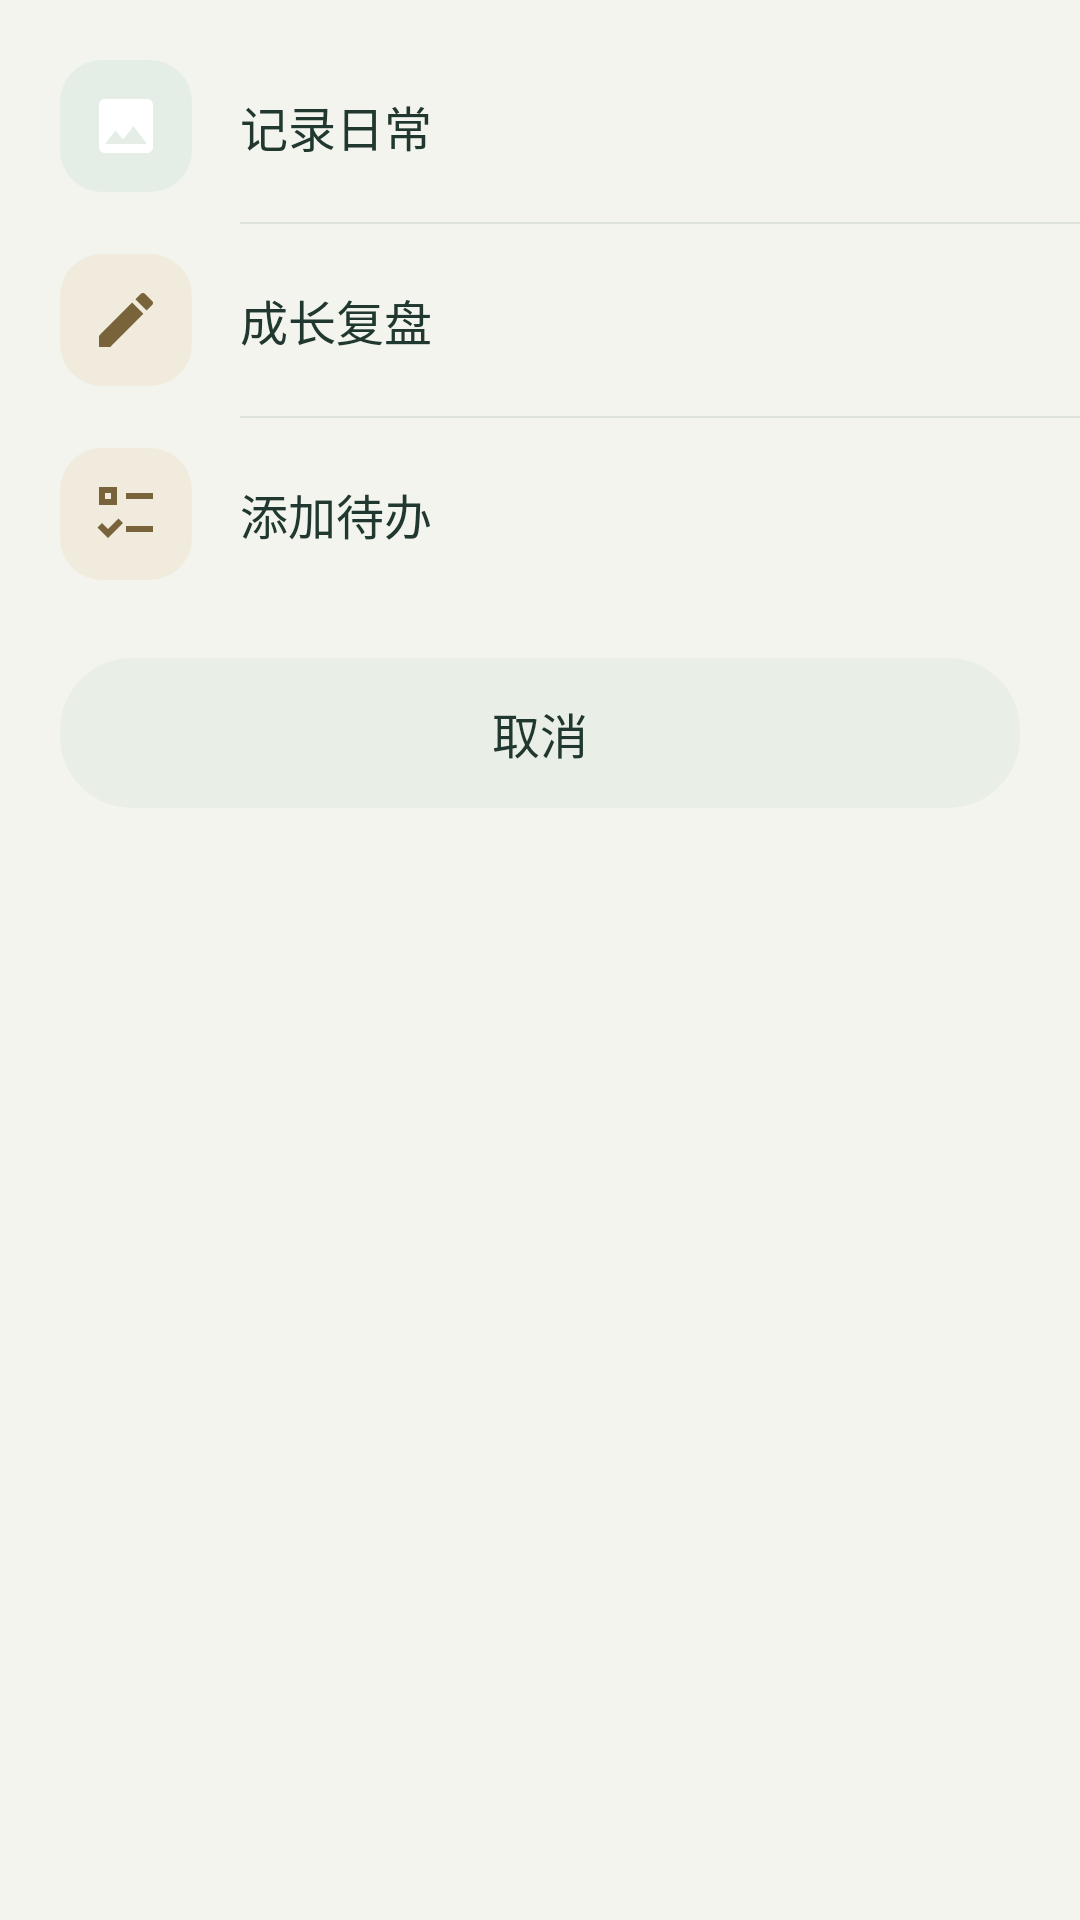

Screen size 1080 x 1920. Icon name, then its box in pixels as {"x1": x1, "y1": y1, "x2": x2, "y2": y2}:
gallery: {"x1": 99, "y1": 99, "x2": 153, "y2": 153}
text: {"x1": 99, "y1": 293, "x2": 153, "y2": 347}
todo: {"x1": 97, "y1": 487, "x2": 153, "y2": 538}
